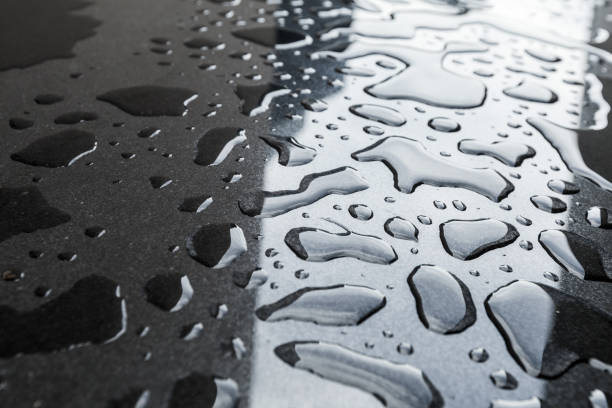Wet-floor: (66, 4, 612, 408)
